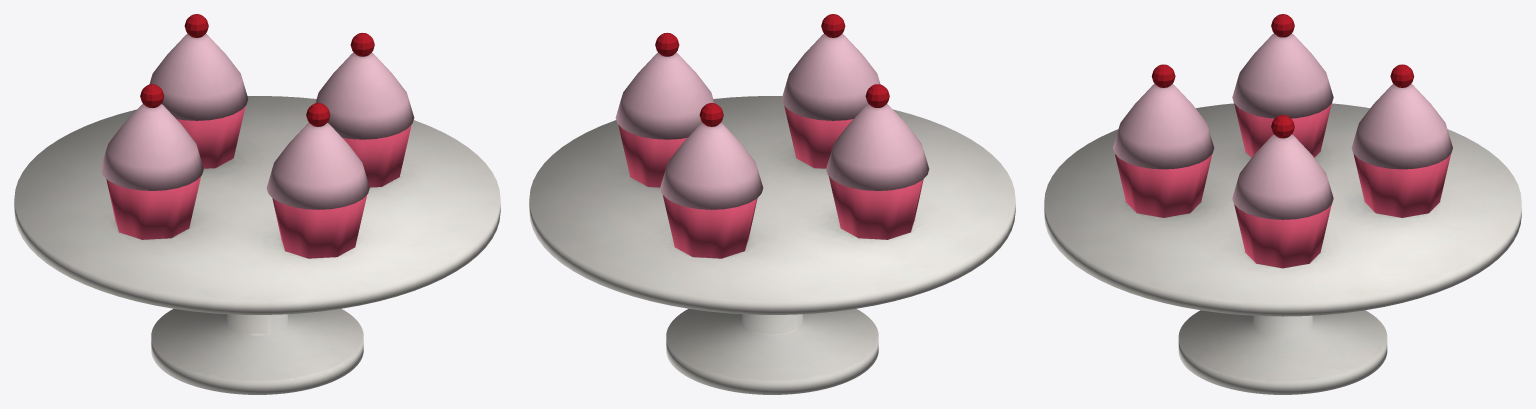
File: cupcakes-pink.glb
3 views of the same model, side by side, from view 1: azimuth 30°, elevation 25°; view 2: azimuth 150°, elevation 25°; view 3: azimuth 270°, elevation 25° (orthographic).
Parts seen in each view (by area): view 1: ceramic_white, icing_primary, liner, berry; view 2: ceramic_white, icing_primary, liner, berry; view 3: ceramic_white, icing_primary, liner, berry.
Part boxes in pixels (x1,y1,x2,y2): ceramic_white: (14,96,500,394); icing_primary: (100,34,414,209); liner: (106,106,411,258); berry: (140,14,374,126); ceramic_white: (529,96,1015,394); icing_primary: (615,34,929,209); liner: (618,106,923,258); berry: (655,14,889,126); ceramic_white: (1044,103,1521,394); icing_primary: (1113,33,1452,219); liner: (1115,104,1450,268); berry: (1151,14,1414,138).
Bounding box in the file's own units: 0.32 × 0.211 × 0.32.
4 materials, 3 textured.
